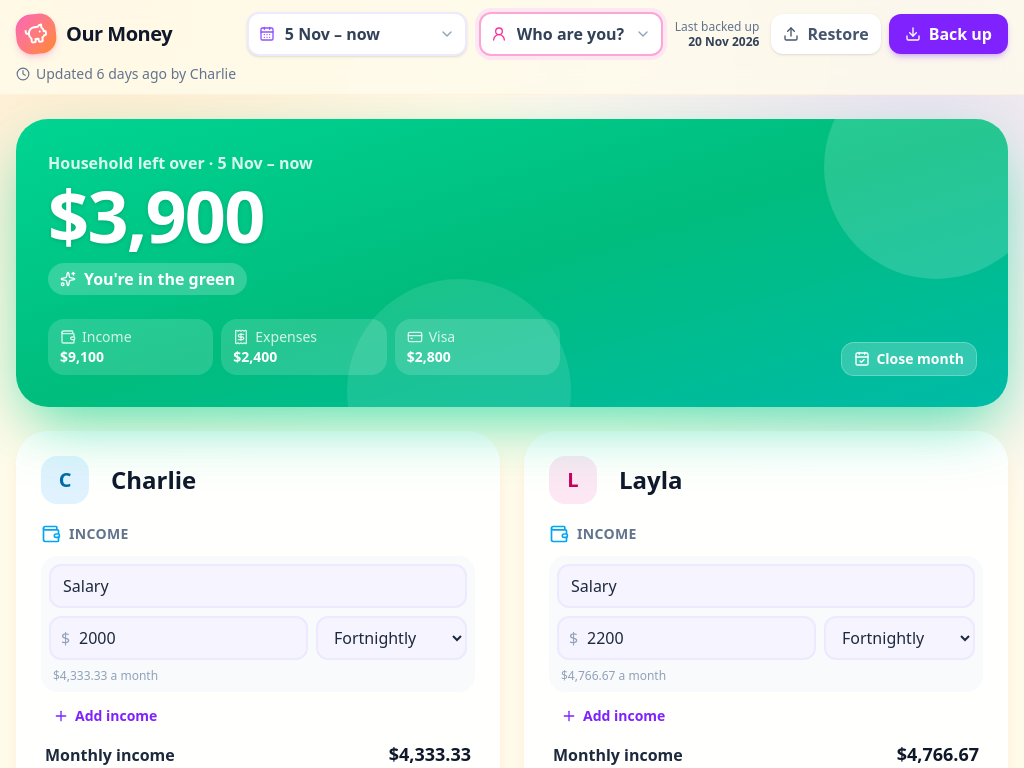
Test: Back up › shows a friendly error if the backup fails, and keeps the old date
Click the button "Back up" at point(948, 34), box [889,14,1008,54]
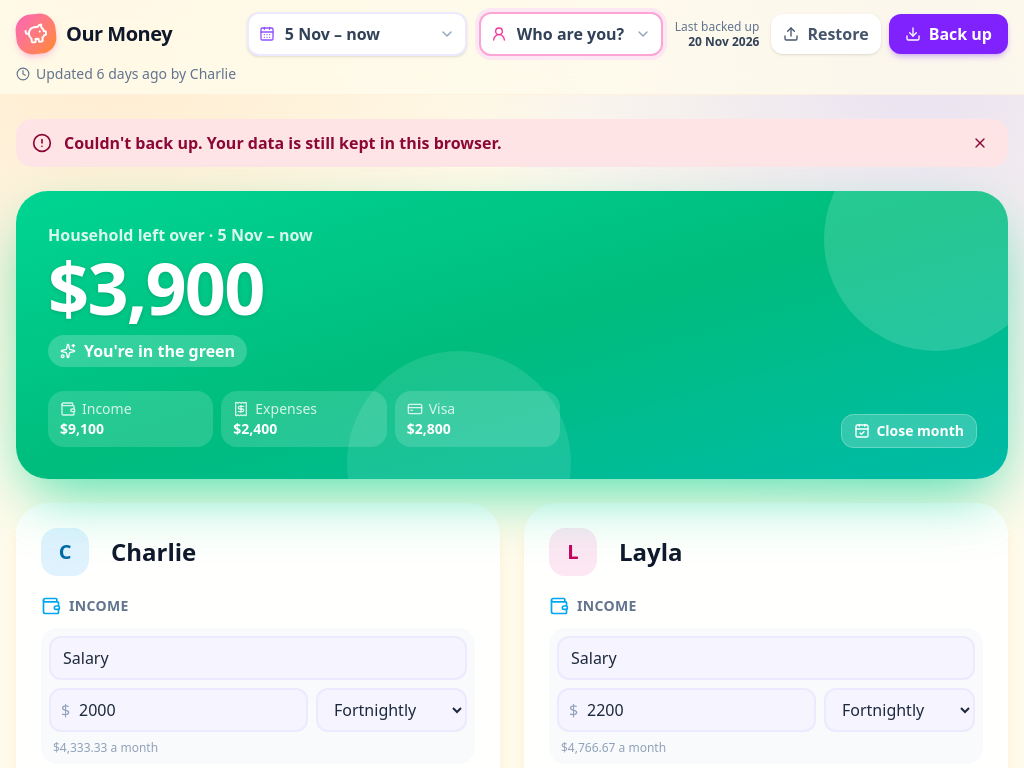
expect the message shows "Couldn't back up": met, box [64,132,502,154]
